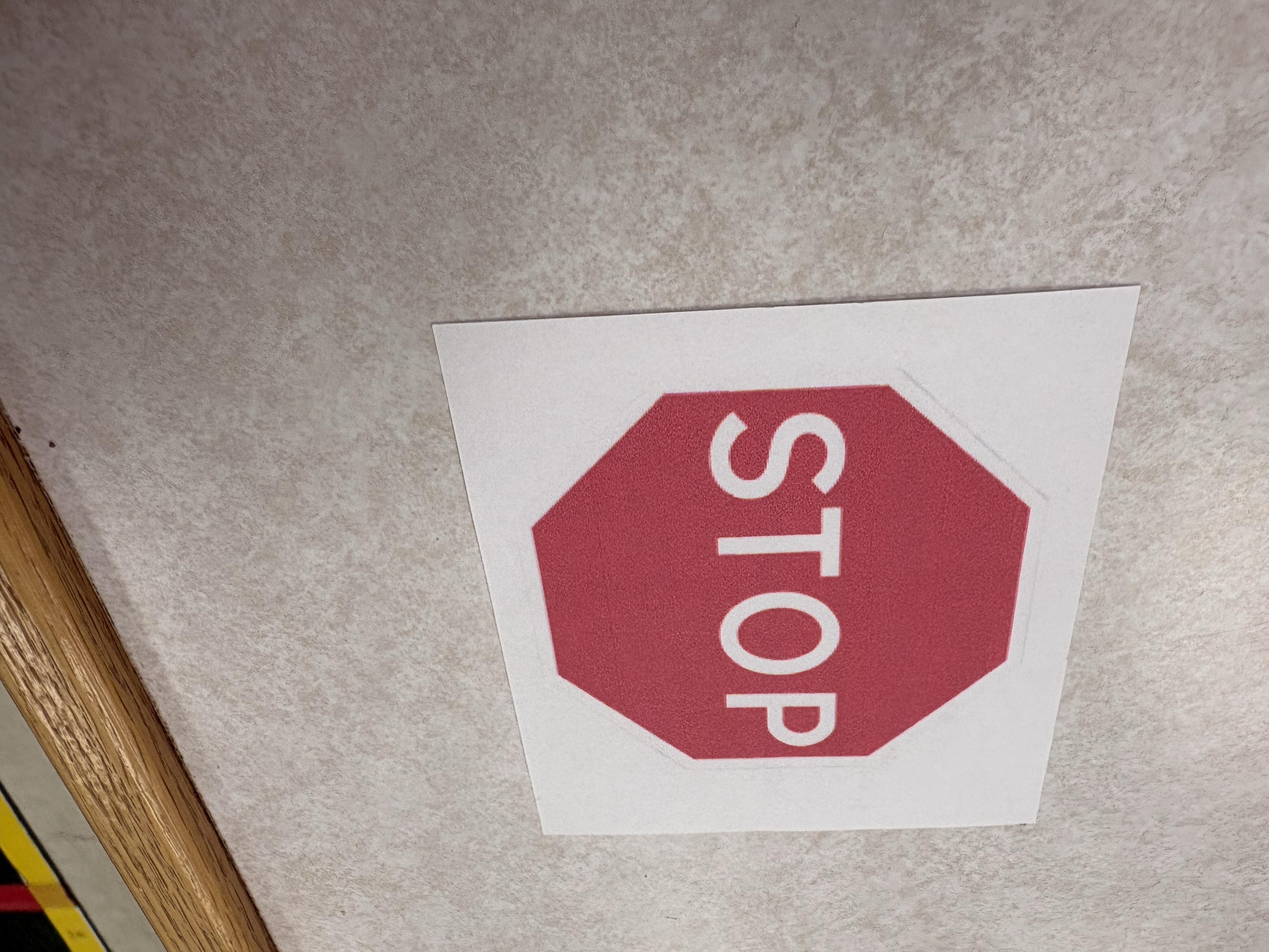Stop: (431, 290, 1138, 833)
